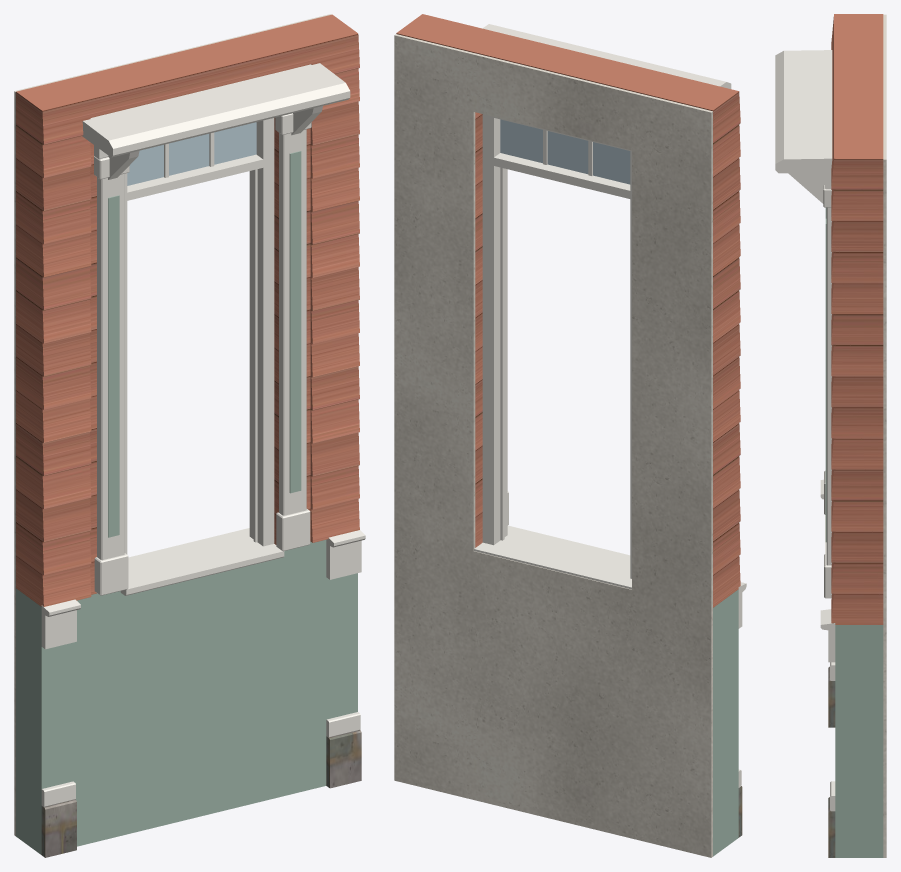
Rendered from f_g_door_e.glb.
3 views of the same model, side by side, from view 1: azimuth 30°, elevation 25°; view 2: azimuth 150°, elevation 25°; view 3: azimuth 270°, elevation 25° (orthographic). The views are drawn at different scales.
Parts seen in each view (by area): view 1: f_g_door_e_acc_e, f_g_door_e_siding_e, f_g_door_e_trim, f_g_door_e_frame, f_g_door_e_glass, f_g_door_e_plinth, f_g_door_e_plaster; view 2: f_g_door_e_plaster, f_g_door_e_siding_e, f_g_door_e_frame, f_g_door_e_trim, f_g_door_e_acc_e, f_g_door_e_glass; view 3: f_g_door_e_siding_e, f_g_door_e_acc_e, f_g_door_e_trim, f_g_door_e_plaster, f_g_door_e_plinth.
Boxes of the visible parts, x1,y1,x2,y2 form: f_g_door_e_acc_e: (16,151,357,854); f_g_door_e_siding_e: (16,14,359,606); f_g_door_e_trim: (41,63,365,806); f_g_door_e_frame: (124,118,274,554); f_g_door_e_glass: (127,122,256,185); f_g_door_e_plinth: (41,730,361,857); f_g_door_e_plaster: (14,14,330,836); f_g_door_e_plaster: (394,34,712,857); f_g_door_e_siding_e: (396,14,740,607); f_g_door_e_frame: (482,114,631,578); f_g_door_e_trim: (474,24,746,787); f_g_door_e_acc_e: (713,589,738,856); f_g_door_e_glass: (500,119,630,184); f_g_door_e_siding_e: (831,14,883,624); f_g_door_e_acc_e: (825,207,883,857); f_g_door_e_trim: (775,50,835,811); f_g_door_e_plaster: (883,14,886,857); f_g_door_e_plinth: (828,666,835,857).
Size of the model in its own units: 2 by 4.5 by 0.65.
7 materials, 3 textured.
